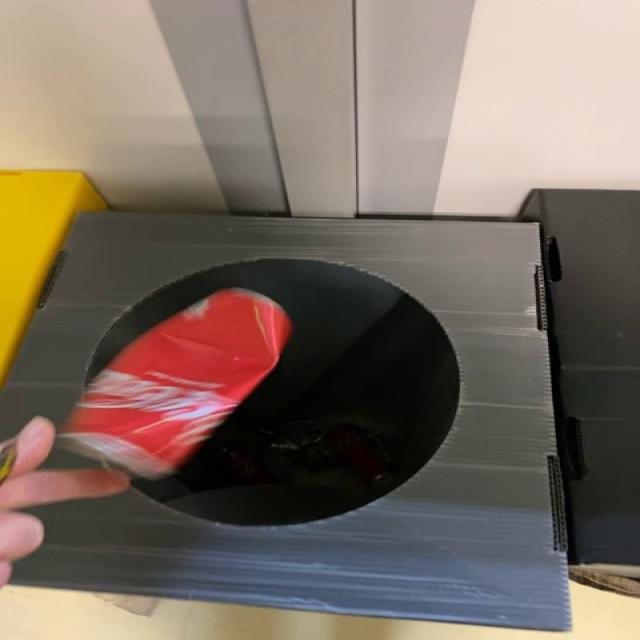bin: (3, 212, 572, 632)
metal: (59, 289, 291, 478)
